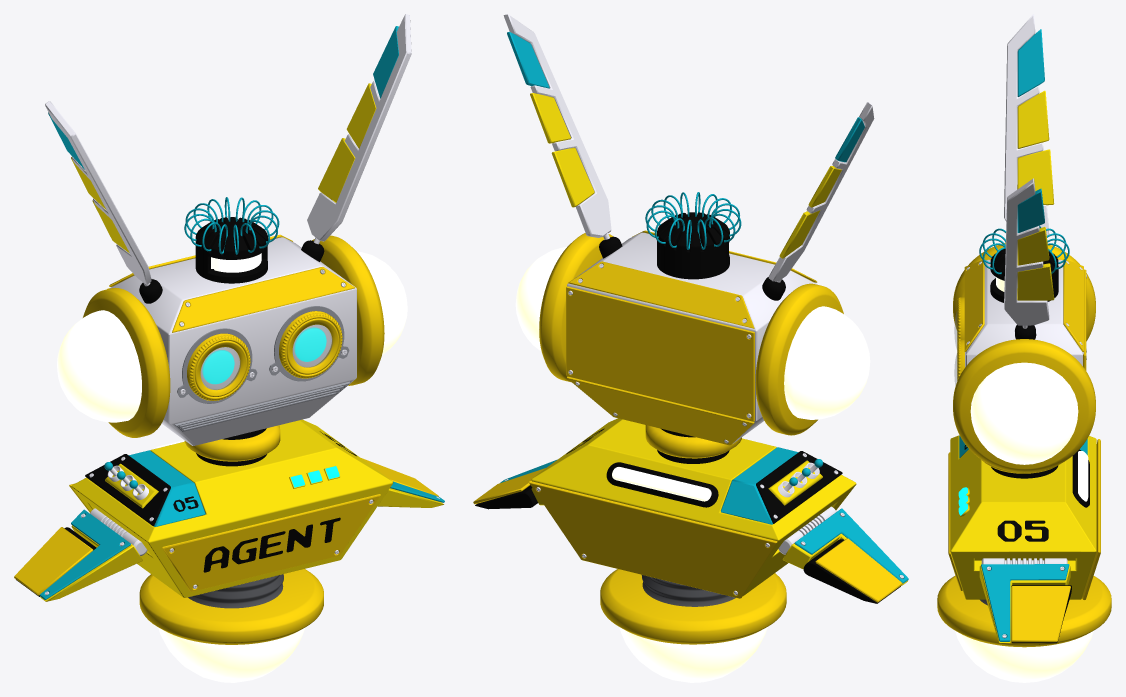
File: bee_bot8_yellow.glb
The picture shows the model from 3 angles, left to right: view 1: azimuth 30°, elevation 25°; view 2: azimuth 150°, elevation 25°; view 3: azimuth 270°, elevation 25°; orthographic projection. The views are drawn at different scales.
Visible parts, largest first — view 1: Cube.486; view 2: Cube.486; view 3: Cube.486.
Part boxes in pixels (x1=…): Cube.486: x1=14, y1=14, x2=444, y2=682; Cube.486: x1=473, y1=14, x2=908, y2=682; Cube.486: x1=937, y1=14, x2=1111, y2=682.
Bounding box in the file's own units: 0.6985 × 1.02 × 0.278.
